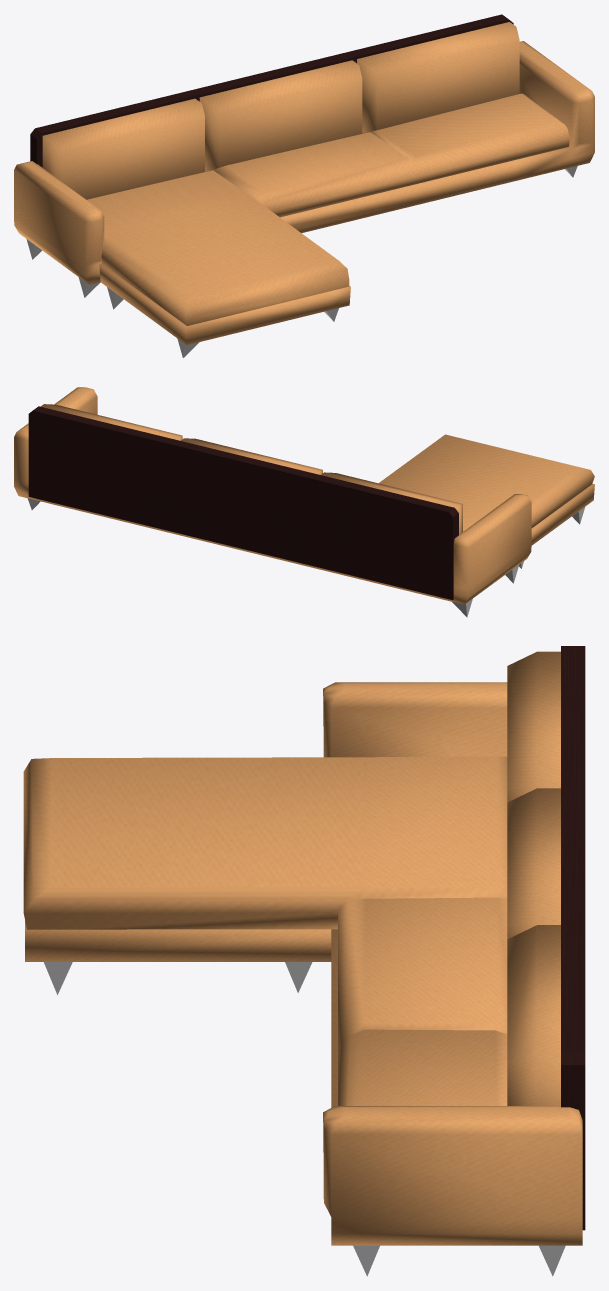
File: Chaise_Sofa_B_03.FBX
3 views of the same model, one above another, from view 1: azimuth 30°, elevation 25°; view 2: azimuth 150°, elevation 25°; view 3: azimuth 270°, elevation 25° (orthographic). The views are drawn at different scales.
Visible parts, largest first — view 1: Chaise_Sofa_B; view 2: Chaise_Sofa_B; view 3: Chaise_Sofa_B.
Boxes of the visible parts, x1,y1,x2,y2 form: Chaise_Sofa_B: [14, 14, 594, 357]; Chaise_Sofa_B: [14, 387, 594, 617]; Chaise_Sofa_B: [23, 646, 585, 1276].
Bounding box in the file's own units: 685 × 157 × 366.
